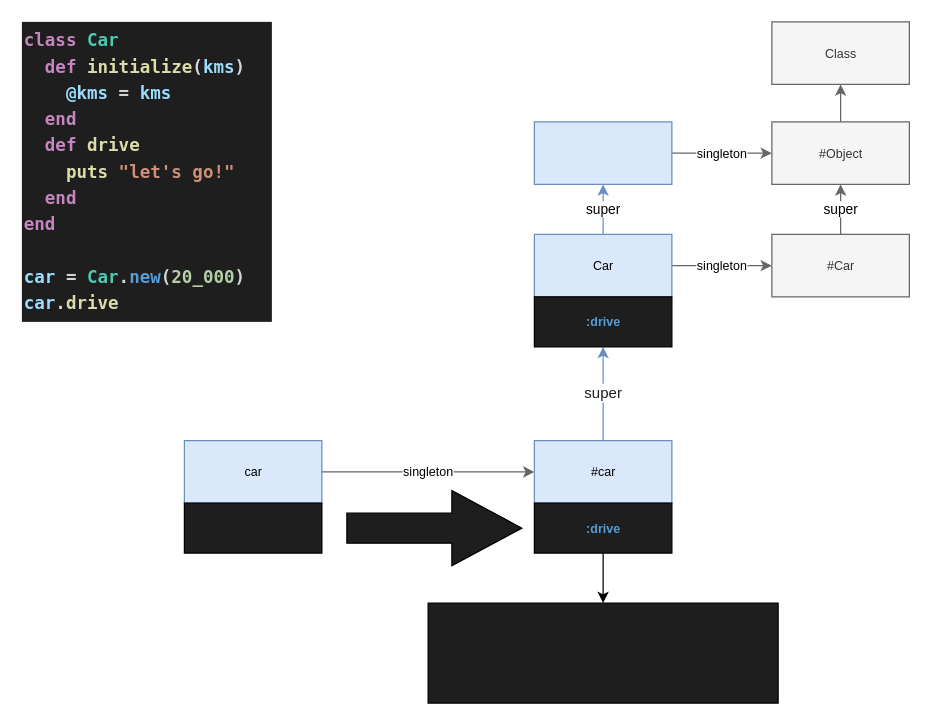
This 931x725 diagram has some shape labels left out. The box of each missing label's shape, as (x1, y1, x2, y2) in pixels:
@kms: (183, 502, 322, 553)
car . class . instance_methods( false ) car . singleton_class . instance_methods: (427, 602, 778, 703)
car . drive: (346, 489, 522, 566)
Object: (533, 121, 672, 184)
